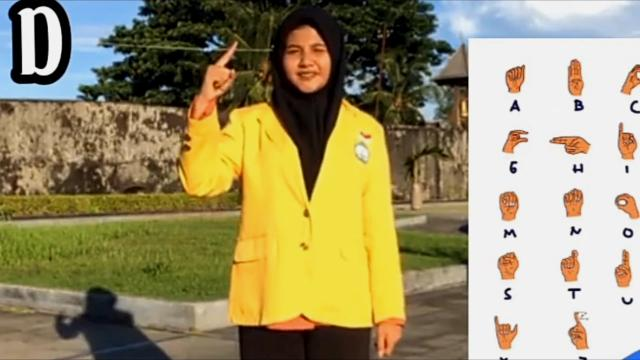D: (203, 42, 241, 102)
